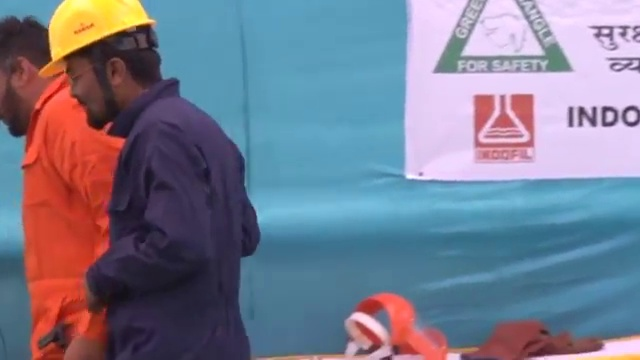helmet: (38, 1, 157, 85)
helmet_off: (1, 20, 49, 143)
helmet_on: (37, 1, 171, 134)
person: (39, 1, 261, 360), (1, 14, 116, 355)
